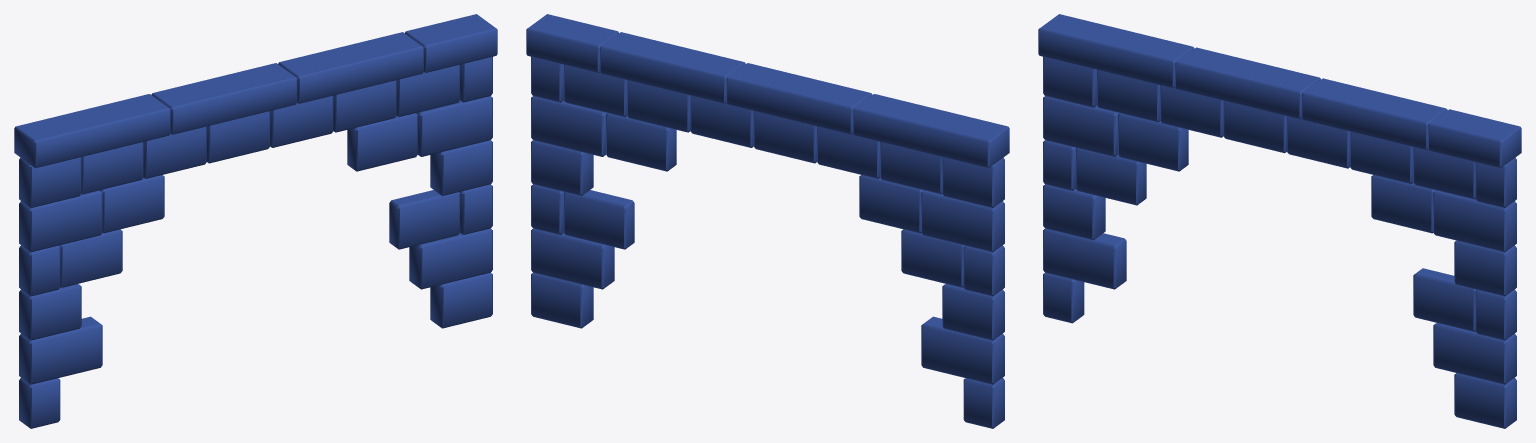
File: wall_top.fbx
3 views of the same model, side by side, from view 1: azimuth 30°, elevation 25°; view 2: azimuth 150°, elevation 25°; view 3: azimuth 330°, elevation 25° (orthographic).
Visible parts, largest first — view 1: wall_top; view 2: wall_top; view 3: wall_top.
Part boxes in pixels (x1,y1,x2,y2): wall_top: (14, 14, 497, 428); wall_top: (526, 14, 1009, 428); wall_top: (1038, 14, 1521, 428).
Size of the model in its own units: 173 by 104 by 13.78.
